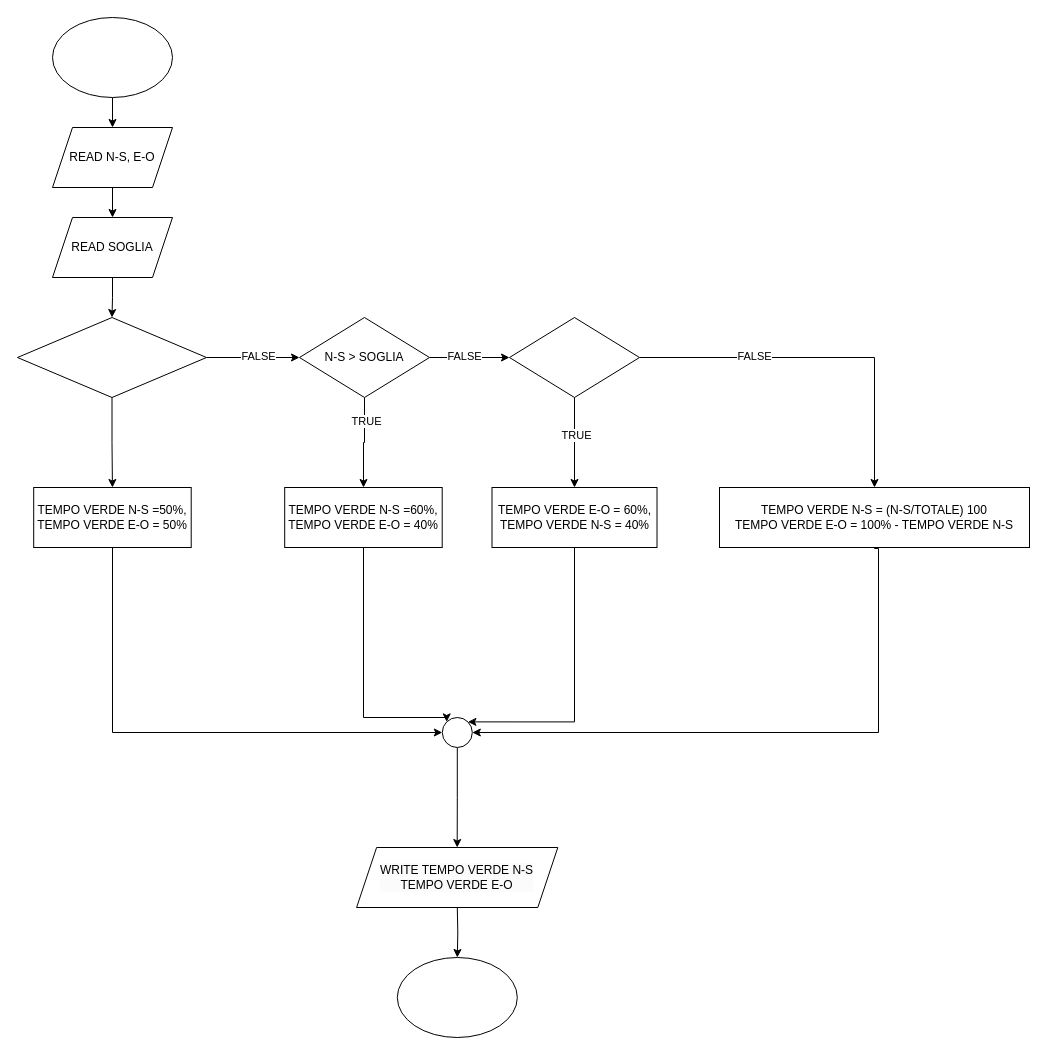
Some shapes in this 1047 by 1055 pixel diagram are drawn without their labels. Each missing label, with the box of its shape:
E-O > SOGLIA: (508, 316, 640, 398)
END: (396, 956, 517, 1038)
N-S > SOGLIA AND E-O > SOGLIA: (16, 316, 206, 398)
START: (52, 16, 172, 98)
